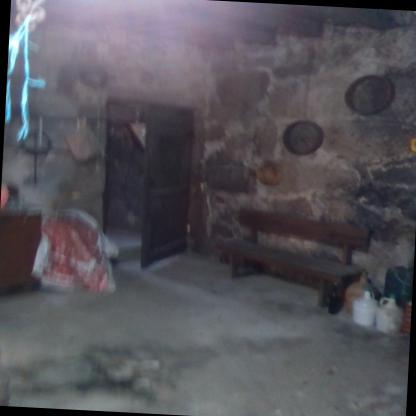semi: (82, 85, 209, 268)
